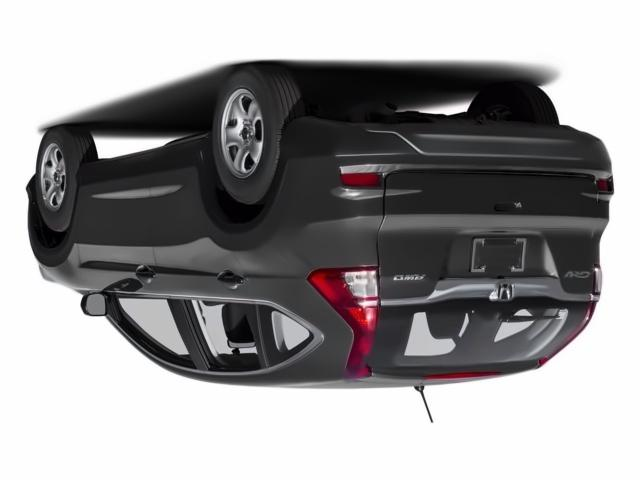Car boot: (370, 165, 600, 380)
Driver-s door - -F-R-: (77, 172, 162, 373)
Fender - -F-R-: (43, 162, 85, 287)
Fender - -R-R-: (233, 197, 314, 310)
Passenger-s door - -R-R-: (163, 170, 254, 380)
Rear bumper: (277, 106, 626, 225)
Rear light - -R-: (303, 262, 384, 386)
Side bumper - -L-: (73, 120, 227, 191)
Side mirror - -R-: (67, 286, 117, 322)
